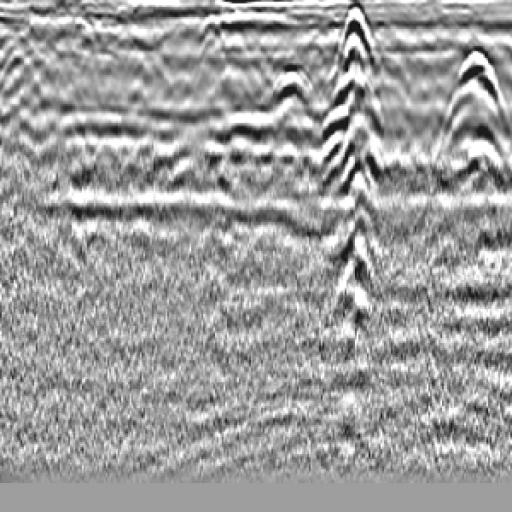metalic: (303, 1, 403, 400)
nonmetalic: (424, 33, 512, 204), (240, 49, 335, 148)
